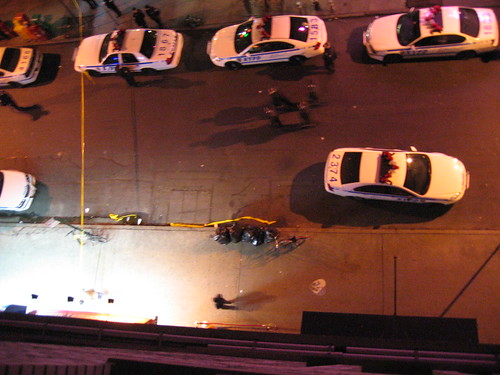policeman: (320, 142, 467, 208), (202, 6, 349, 72), (353, 1, 500, 66), (68, 23, 184, 75), (1, 41, 43, 86), (1, 166, 43, 211)
sidewalk: (1, 217, 500, 341)
street: (2, 33, 500, 215)
trash: (198, 206, 293, 253)
